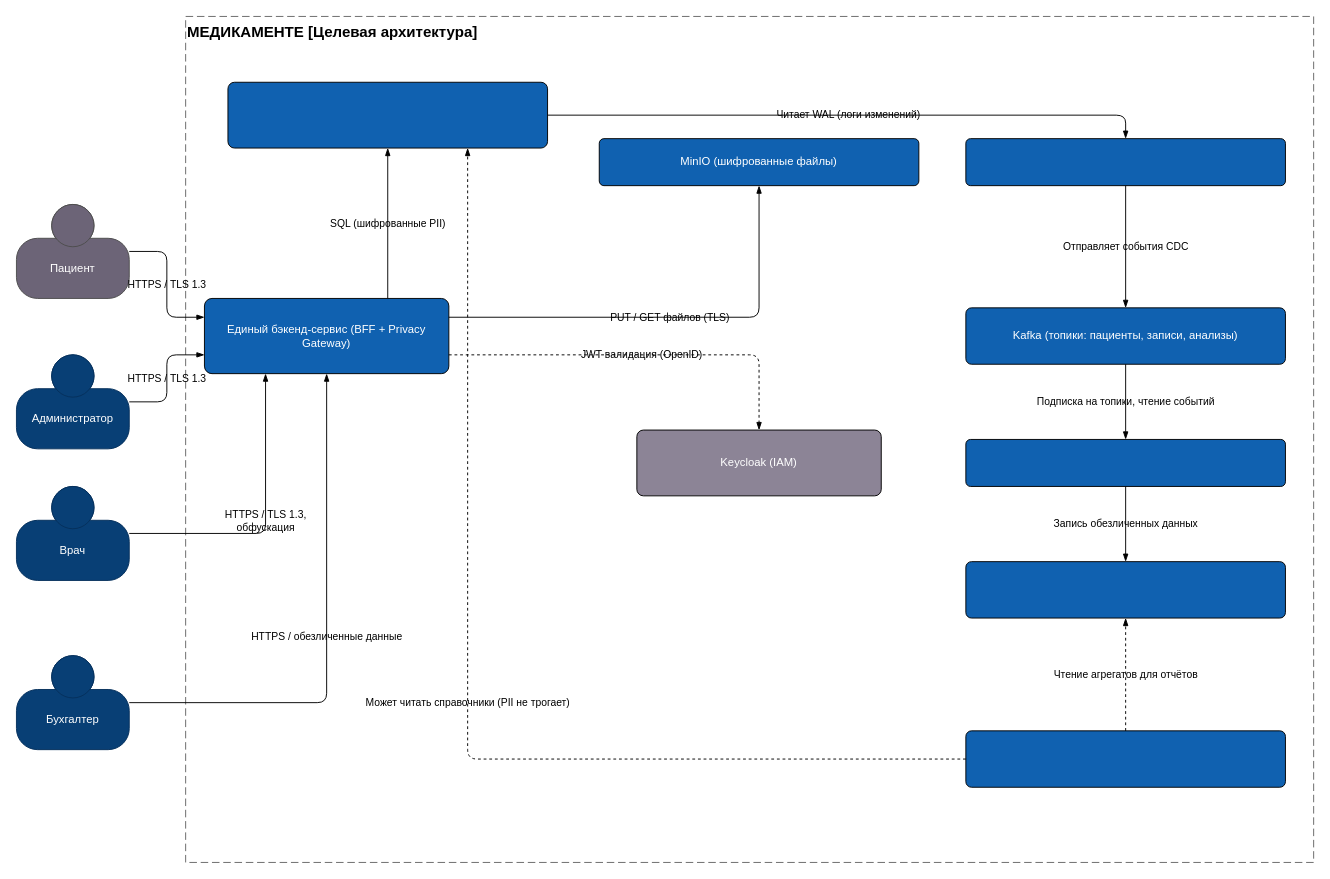
This 1330x879 diagram has some shape labels left out. Here are the shapes that lost their labels. From the top down, the centre of each, then its label:
At point 387,114: "PostgreSQL (оперативные данные: PII, медкарты, записи, аудит)".
At point 1125,162: "Debezium (CDC)".
At point 1125,462: "Presidio (анонимизация)".
At point 1125,589: "ClickHouse (обезличенные данные, агрегаты)".
At point 1125,758: "Airflow (оркестрация DAG для отчётов)".
